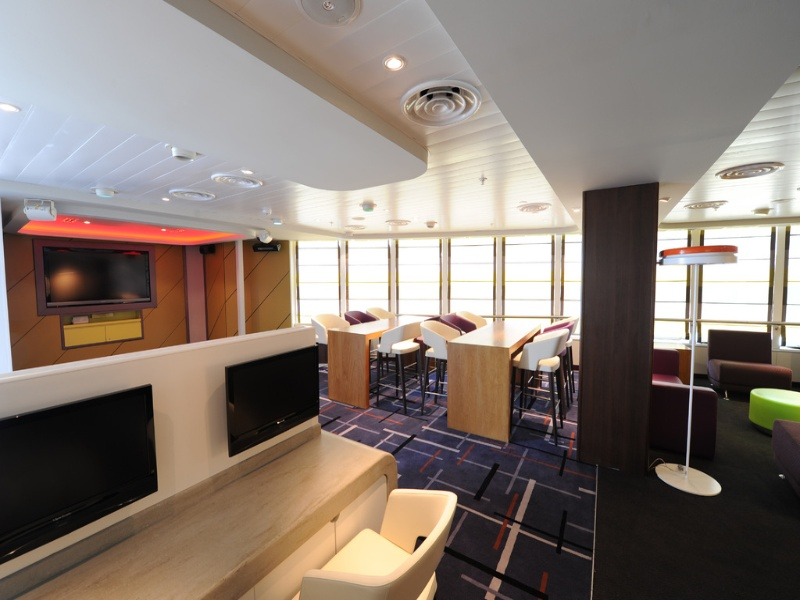tv: (4, 384, 159, 540), (29, 239, 161, 315), (220, 350, 325, 442)
